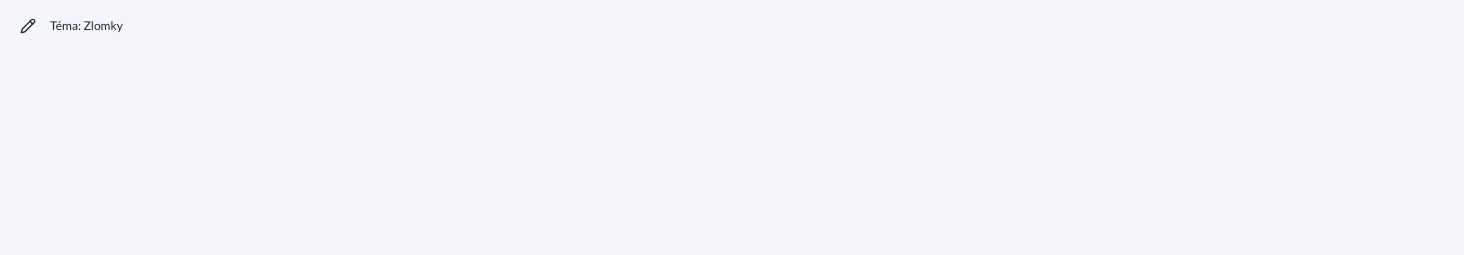
Test case: Popis hodiny › uloží jen popis, téma neposílá znovu
Later steps or results of the test are not shown.
Click the button with aria-label "Upravit téma hodiny". click: (86, 26)
box: [12,4,1452,48]
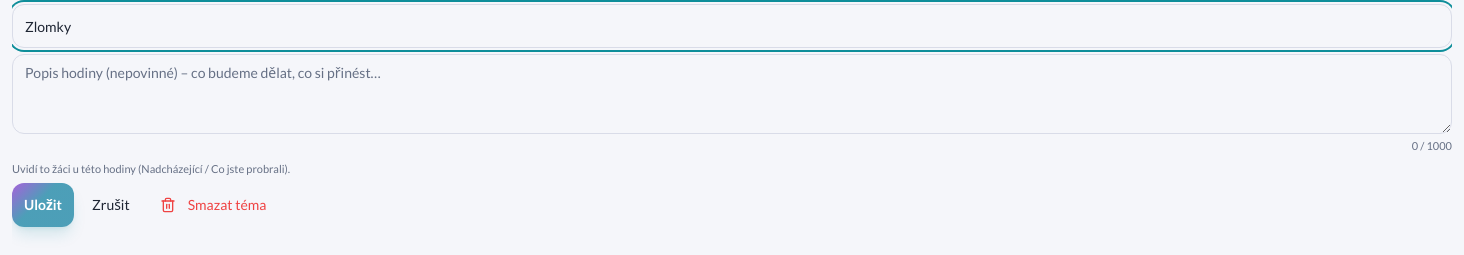
Type "  Přineste kružítko " into the text box labelled "Popis hodiny". click: (732, 94)
box: [12,54,1452,134]
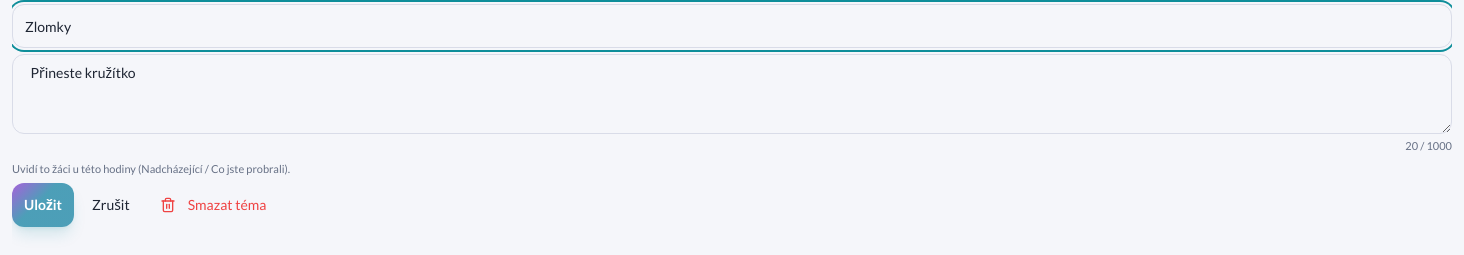
Result: the text "20 / 1000" is shown at [1405,139,1452,152]
